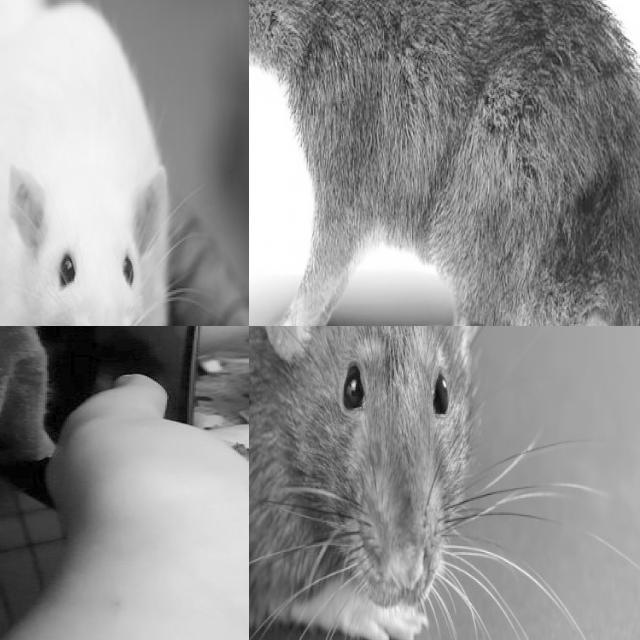rat: (249, 0, 640, 326), (249, 326, 500, 640), (0, 0, 209, 326)
